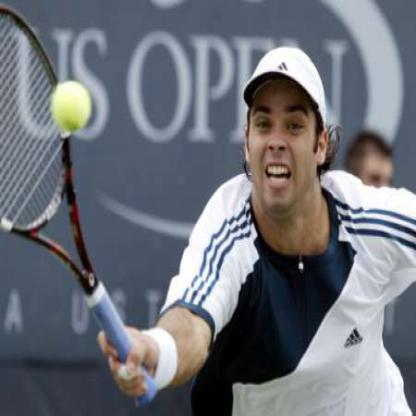face: (248, 48, 322, 215)
